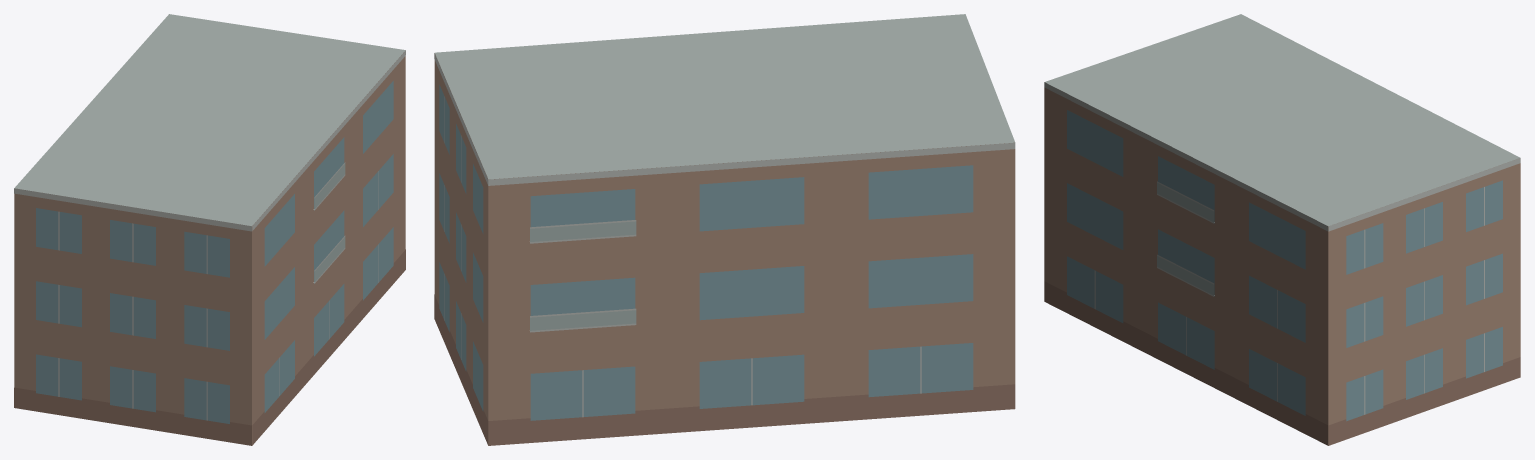
File: survey-upis-32535302.glb
3 renders of one model, left to right at view 1: azimuth 30°, elevation 25°; view 2: azimuth 150°, elevation 25°; view 3: azimuth 270°, elevation 25°, orthographic. The views are drawn at different scales.
Parts seen in each view (by area): view 1: survey-upis-32535302.tmp; view 2: survey-upis-32535302.tmp; view 3: survey-upis-32535302.tmp.
Boxes of the visible parts, box(x1,y1,x2,y2) form: survey-upis-32535302.tmp: box(14, 14, 405, 445); survey-upis-32535302.tmp: box(434, 14, 1015, 445); survey-upis-32535302.tmp: box(1044, 14, 1520, 445).
Size of the model in its own units: 20.96 by 10.1 by 19.86.
